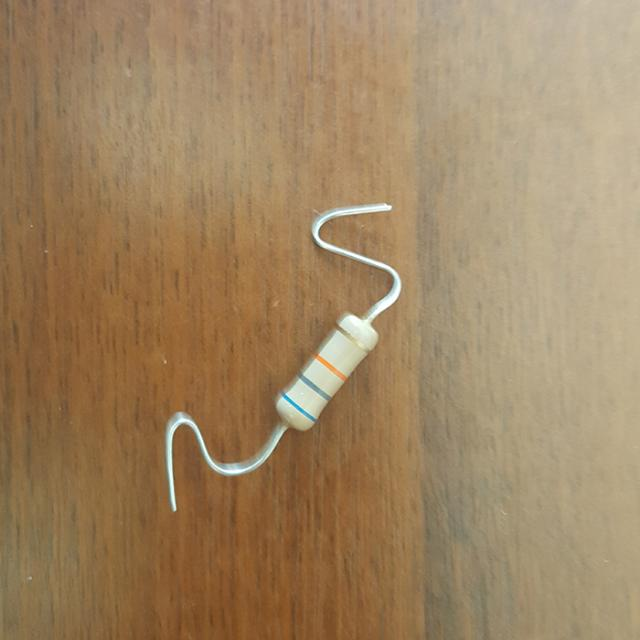blue: (281, 391, 315, 421)
gold: (337, 325, 368, 351)
grey: (299, 373, 329, 400)
orange: (315, 353, 346, 380)
resistor: (257, 294, 398, 450)
